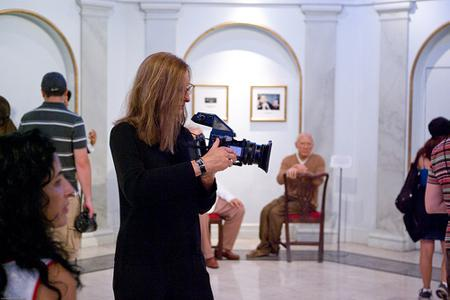person: (110, 51, 239, 299)
